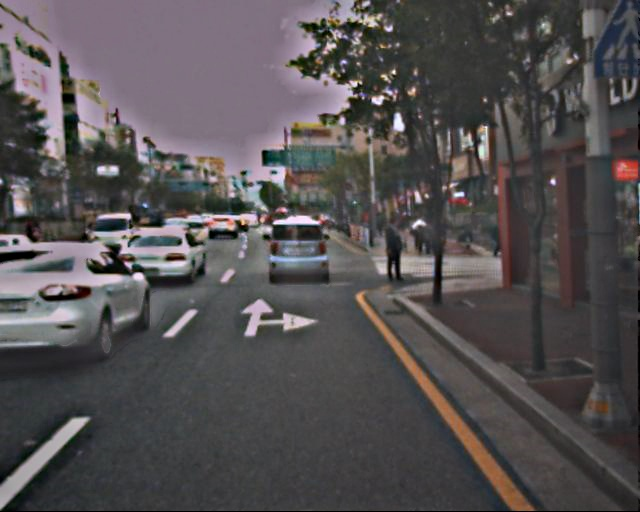person: (379, 216, 406, 282), (409, 217, 435, 254), (489, 215, 508, 261)
